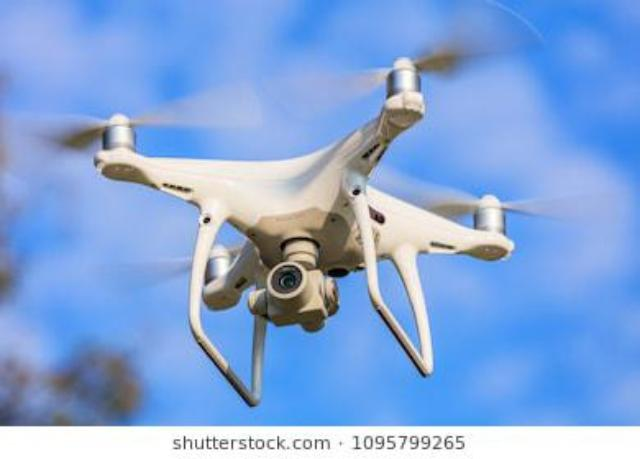drone: (0, 3, 640, 459)
